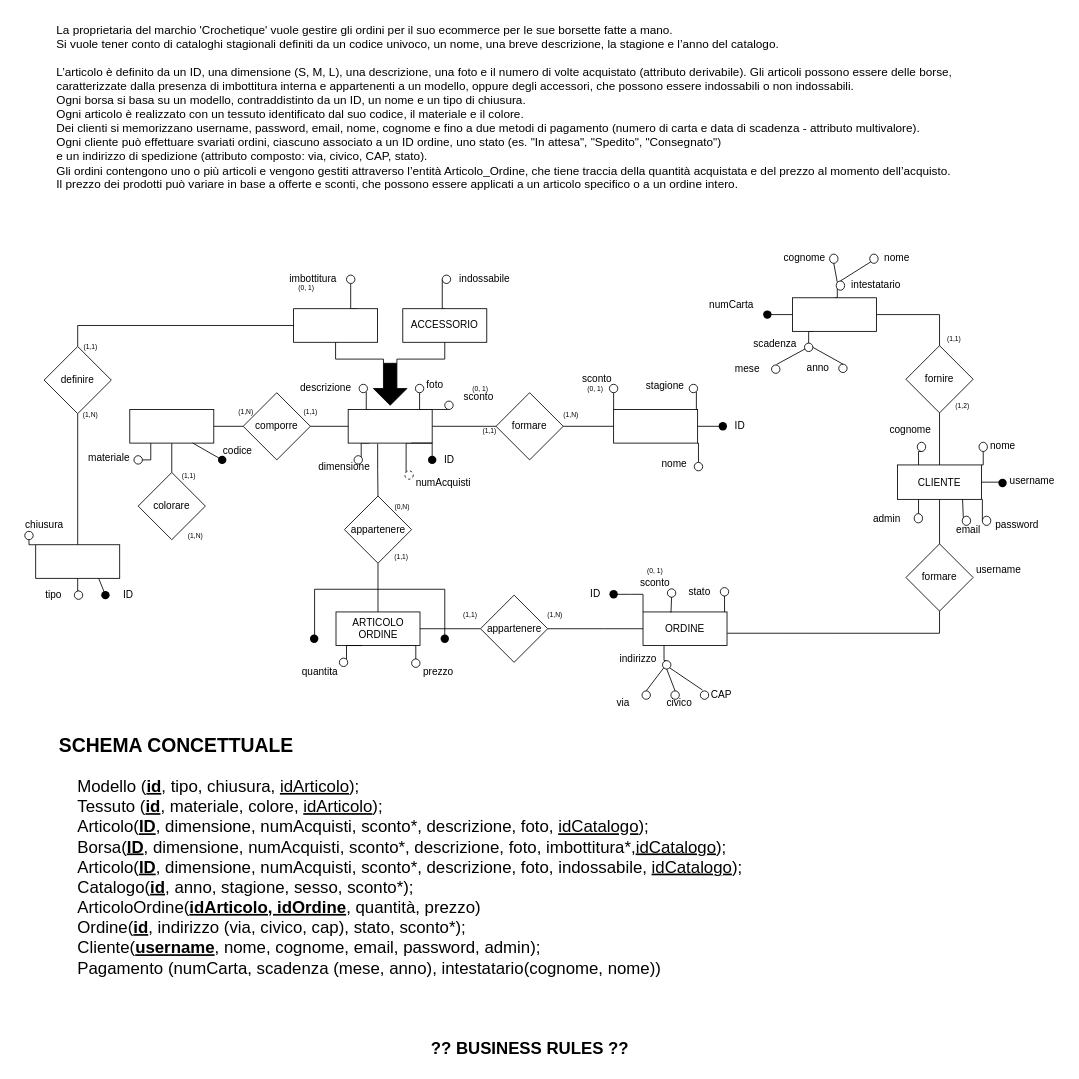
This 1079x1079 diagram has some shape labels left out. Here are the shapes that lost their labels. From the top down, the centre of each, then its label:
pixel 335 325: BORSA
pixel 834 314: Pagamento
pixel 171 426: TESSUTO
pixel 389 426: ARTICOLO
pixel 655 426: CATALOGO
pixel 77 561: MODELLO
